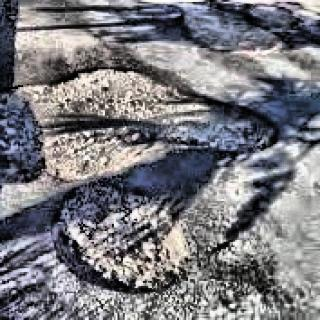pothole: (3, 66, 280, 183), (44, 184, 194, 294)
